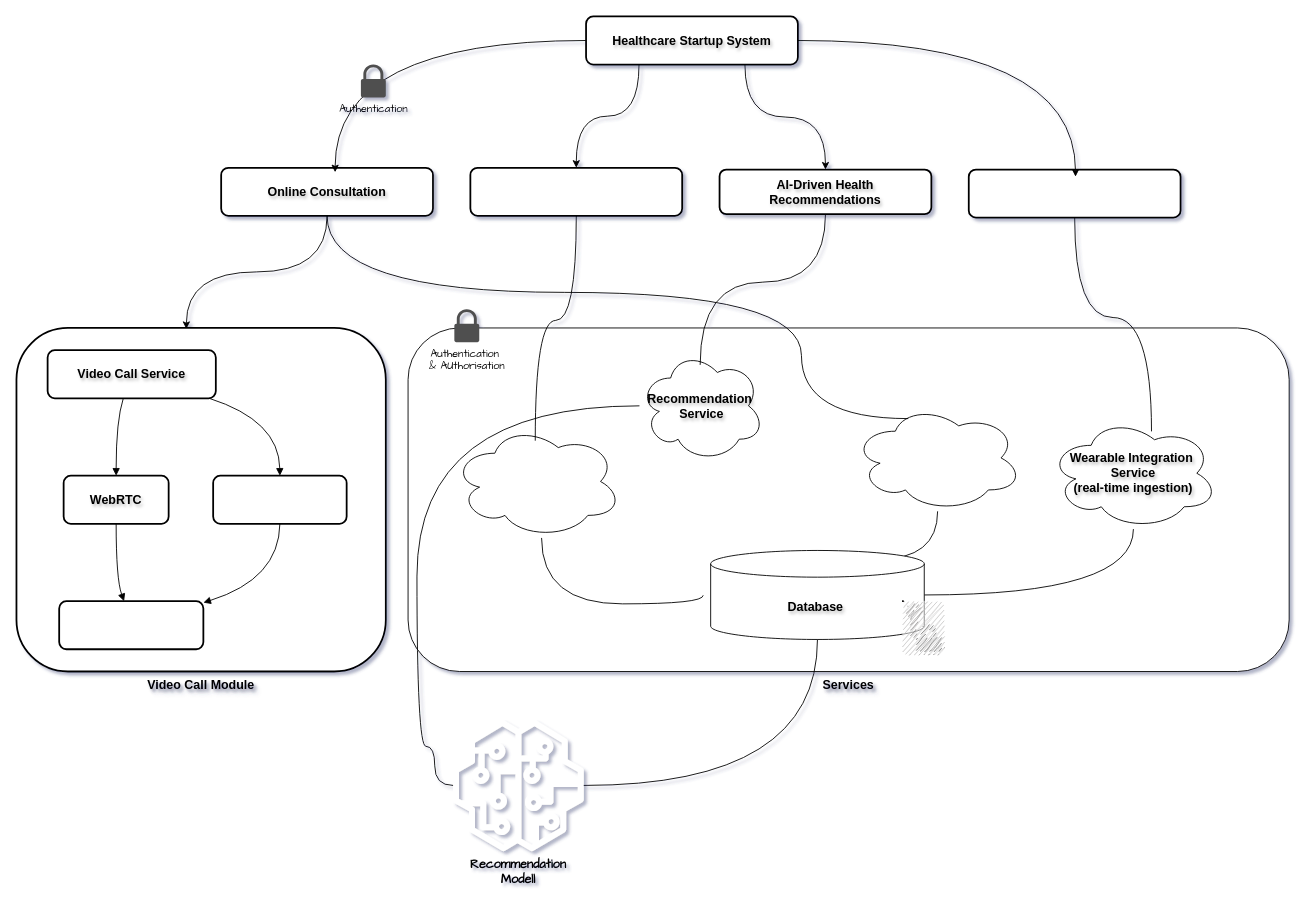
Image size: 1310x908. Some labels were removed from this diagram. Here are the shapes that lost their labels. From the top down, the centre of each, then its label:
At (x=576, y=191): "Patient Management".
At (x=1074, y=193): "Integration with Wearables Fitbit, Apple Watch etc".
At (x=937, y=457): "Consultation Service WebRTC".
At (x=279, y=499): "Chat Service".
At (x=537, y=481): "Patient Service CRUD".
At (x=131, y=625): "User Interface".
At (x=923, y=627): "Encryption".
